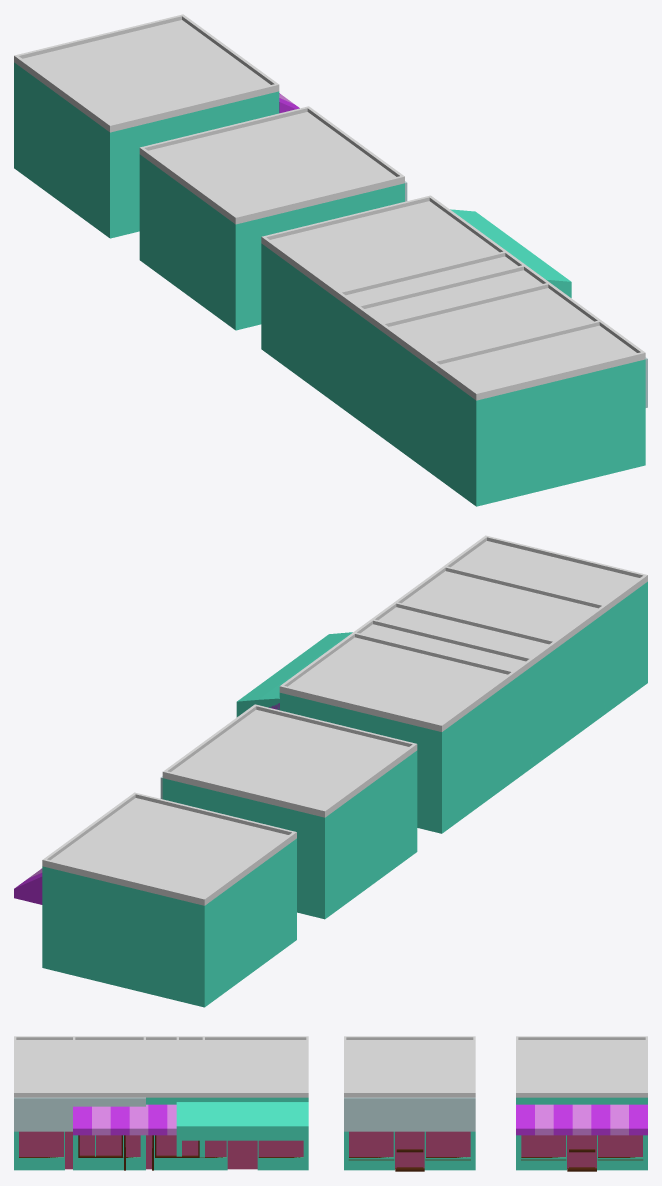
File: toko2.glb
3 views of the same model, one above another, from view 1: azimuth 30°, elevation 25°; view 2: azimuth 150°, elevation 25°; view 3: azimuth 270°, elevation 25° (orthographic). The views are drawn at different scales.
Visible parts, largest first — view 1: Cube, Cube016, Cube021, Cube014, Cube004, Cube017, Cube043, Cube001, Cube005, Cube042, Cube006; view 2: Cube014, Cube016, Cube021, Cube004, Cube017, Cube005, Cube043, Cube001, Cube, Cube042, Cube006, Cube010; view 3: Cube021, Cube016, Cube004, Cube043, Cube014, Cube006, Cube017, Cube015, Cube001, Cube, Cube010, Cube005 (+4 smaller).
Part boxes in pixels (x1,y1,x2,y2): Cube: [380, 358, 645, 506]; Cube016: [139, 106, 404, 224]; Cube021: [14, 14, 279, 132]; Cube014: [14, 62, 279, 238]; Cube004: [261, 195, 526, 313]; Cube017: [139, 154, 404, 330]; Cube043: [340, 251, 601, 368]; Cube001: [380, 283, 645, 400]; Cube005: [261, 243, 357, 419]; Cube042: [357, 314, 433, 474]; Cube006: [450, 209, 571, 297]; Cube014: [42, 838, 296, 1007]; Cube016: [162, 704, 417, 817]; Cube021: [42, 792, 296, 905]; Cube004: [279, 619, 533, 731]; Cube017: [162, 750, 417, 919]; Cube005: [279, 665, 533, 833]; Cube043: [355, 565, 606, 674]; Cube001: [396, 535, 647, 644]; Cube: [559, 581, 647, 724]; Cube042: [533, 612, 606, 765]; Cube006: [236, 632, 352, 717]; Cube010: [14, 868, 42, 904]; Cube021: [516, 1036, 647, 1097]; Cube016: [344, 1036, 475, 1097]; Cube004: [176, 1036, 308, 1097]; Cube043: [73, 1036, 204, 1097]; Cube014: [516, 1097, 647, 1170]; Cube006: [176, 1102, 308, 1140]; Cube017: [344, 1131, 475, 1170]; Cube015: [344, 1097, 475, 1131]; Cube001: [14, 1036, 145, 1097]; Cube: [14, 1131, 145, 1170]; Cube010: [516, 1104, 647, 1135]; Cube005: [176, 1097, 308, 1170].
Size of the model in its own units: 494 by 248 by 1848.
